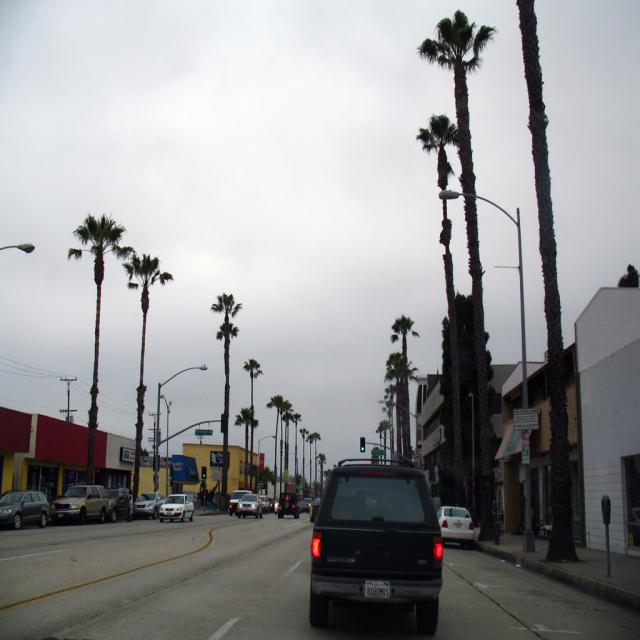car: (308, 457, 450, 631), (162, 499, 190, 518), (238, 496, 258, 521)
